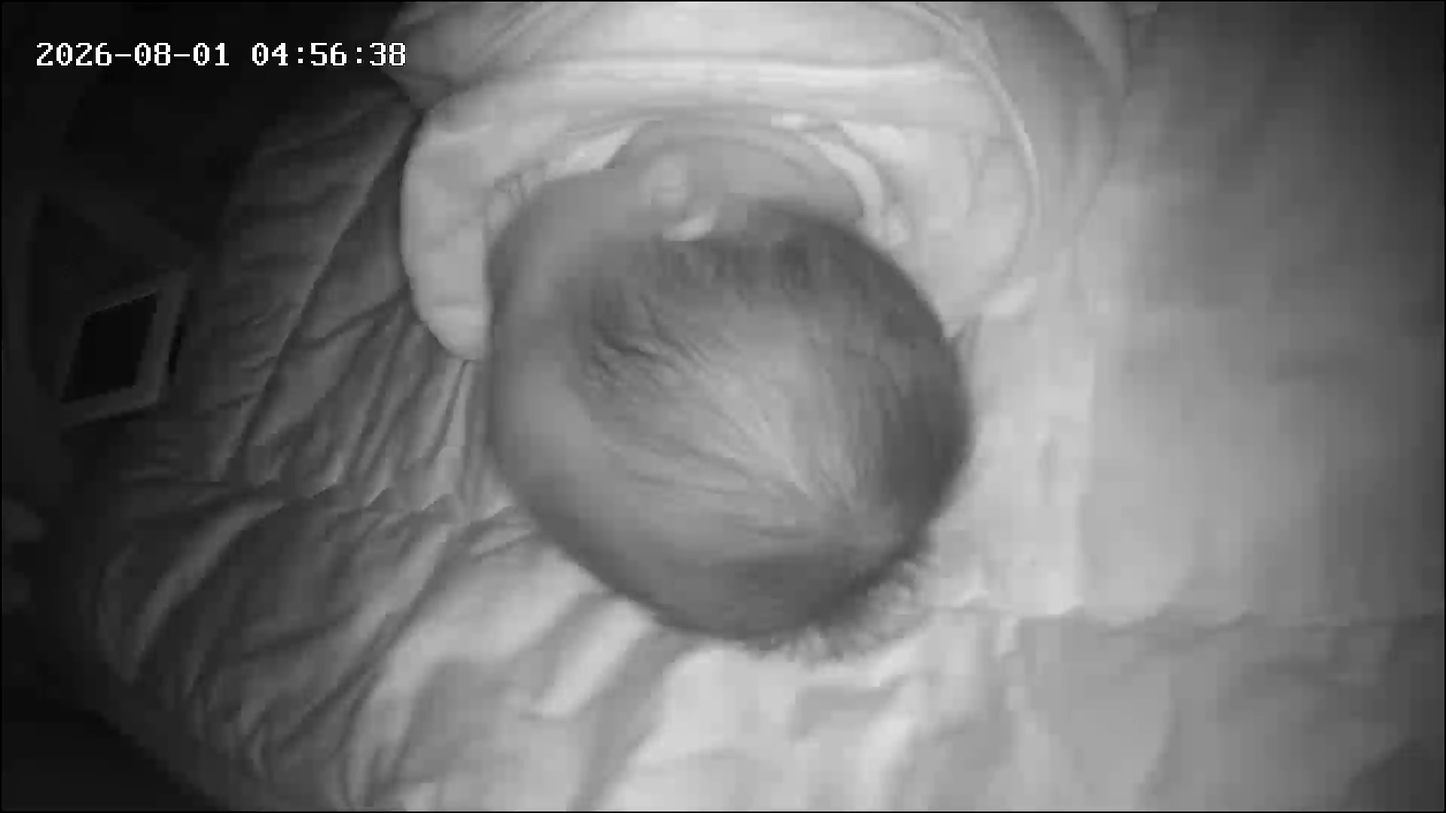baby: (360, 0, 1010, 659)
baby_face: (469, 122, 973, 646)
